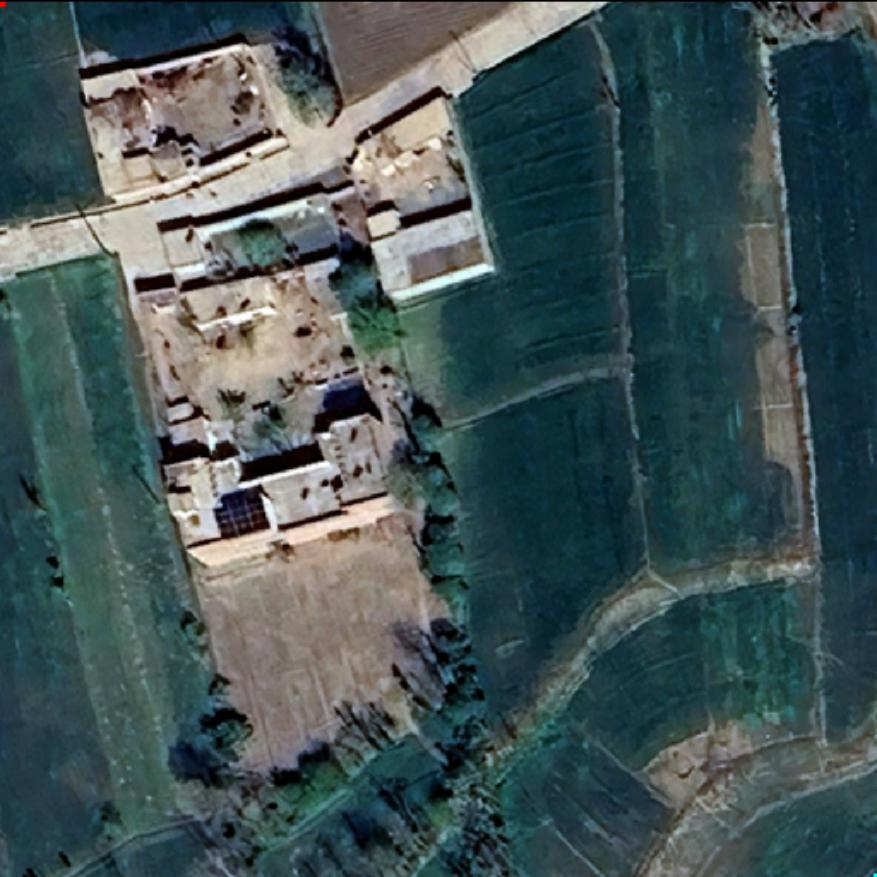Solarpanel: (207, 486, 273, 542)
